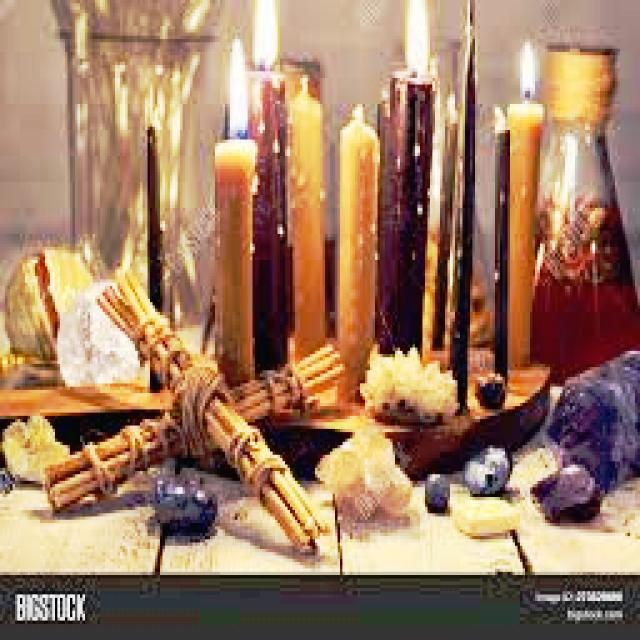api: (216, 34, 256, 138), (401, 5, 439, 73), (251, 4, 281, 69), (514, 40, 544, 102)
